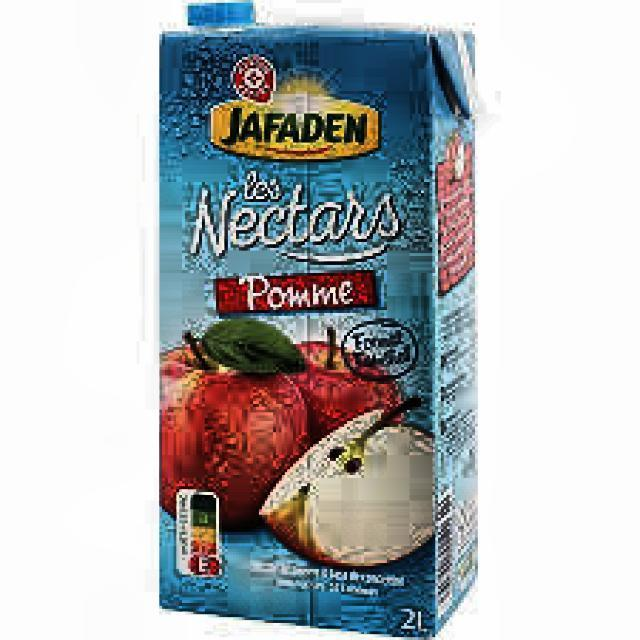cardboard: (156, 0, 478, 637)
